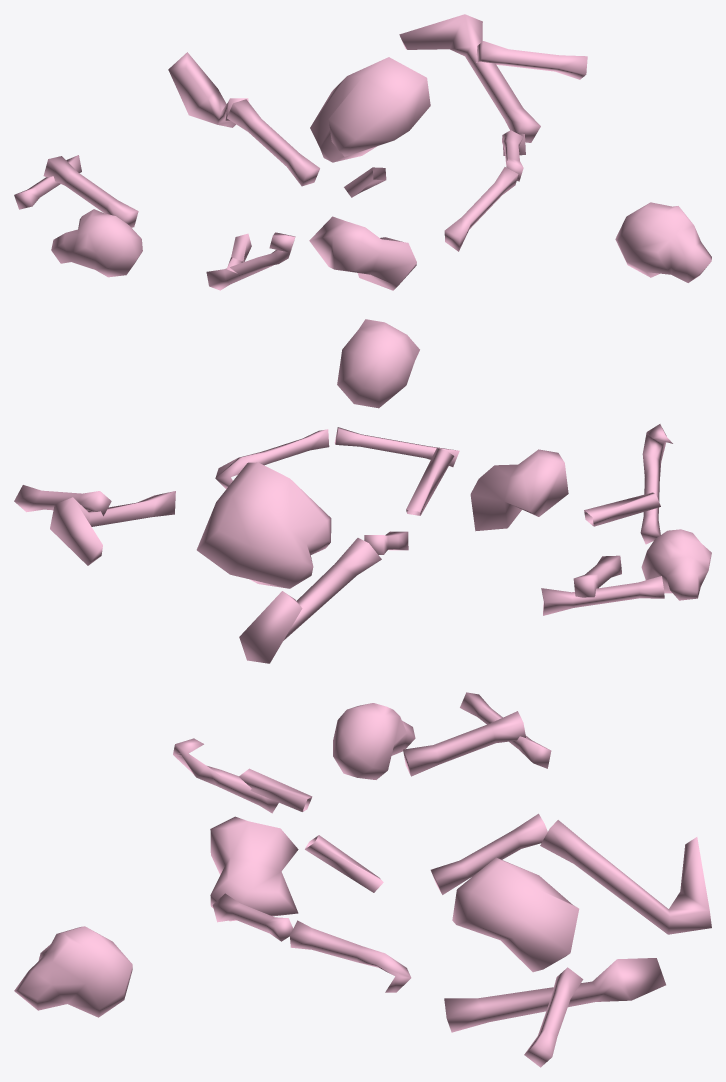
3 views of the same model, one above another, from view 1: azimuth 30°, elevation 25°; view 2: azimuth 150°, elevation 25°; view 3: azimuth 270°, elevation 25° (orthographic). The views are drawn at different scales.
Visible parts, largest first — view 1: Object44; view 2: Object44; view 3: Object44.
Part boxes in pixels (bbox=[...]): Object44: bbox=[14, 14, 711, 290]; Object44: bbox=[14, 319, 711, 663]; Object44: bbox=[14, 692, 711, 1067].
Size of the model in its own units: 227 by 41.08 by 209.
